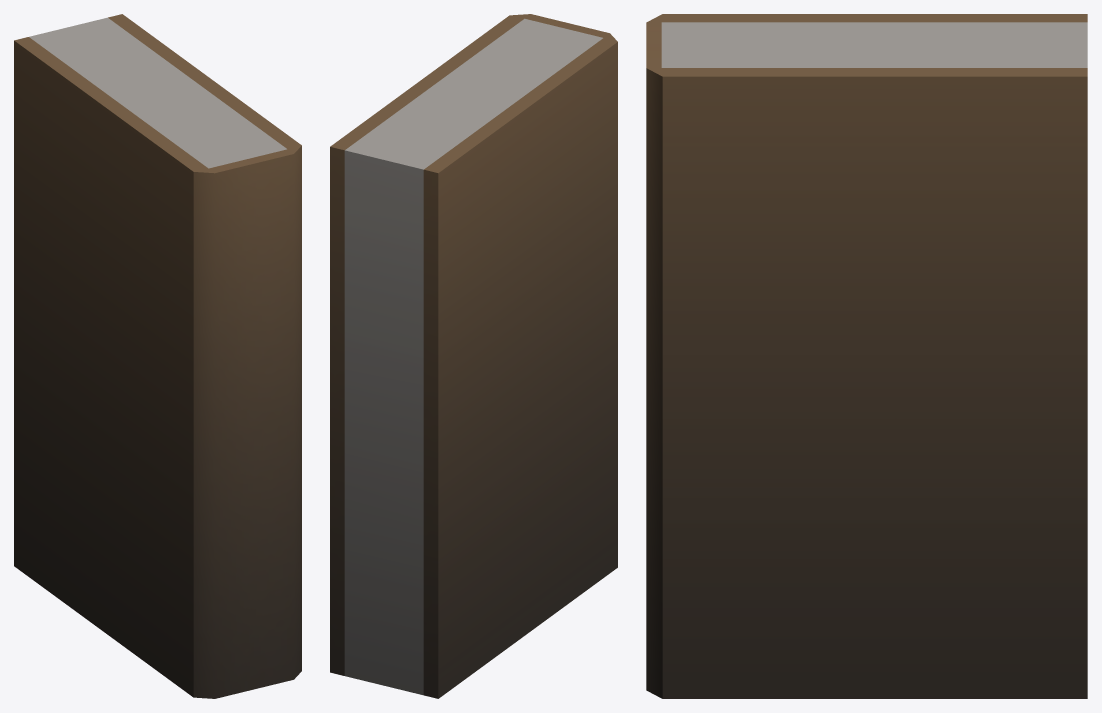
Rendered from Book_G.fbx.
The picture shows the model from 3 angles, left to right: view 1: azimuth 30°, elevation 25°; view 2: azimuth 150°, elevation 25°; view 3: azimuth 270°, elevation 25°; orthographic projection. The views are drawn at different scales.
Visible parts, largest first — view 1: Book_G; view 2: Book_G; view 3: Book_G.
Boxes of the visible parts, bbox=[...] form: Book_G: bbox=[14, 14, 301, 698]; Book_G: bbox=[330, 14, 617, 698]; Book_G: bbox=[646, 14, 1087, 698].
Bounding box in the file's own units: 6.86 × 31.78 × 20.41.
